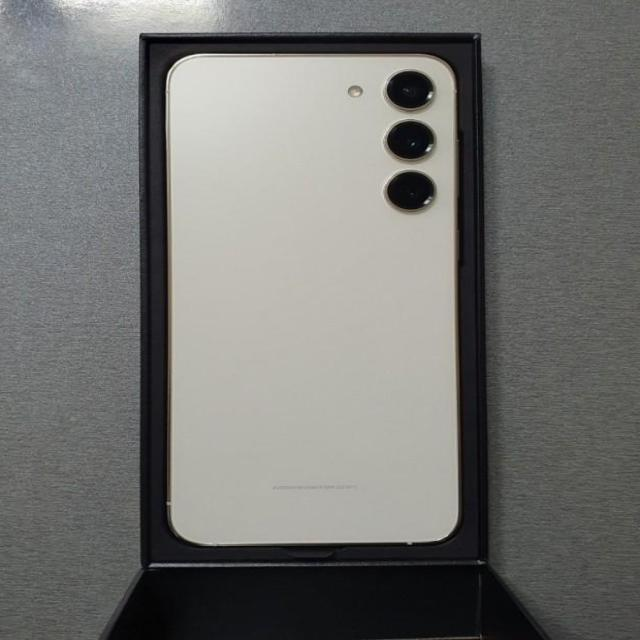mobile: (166, 51, 458, 552)
